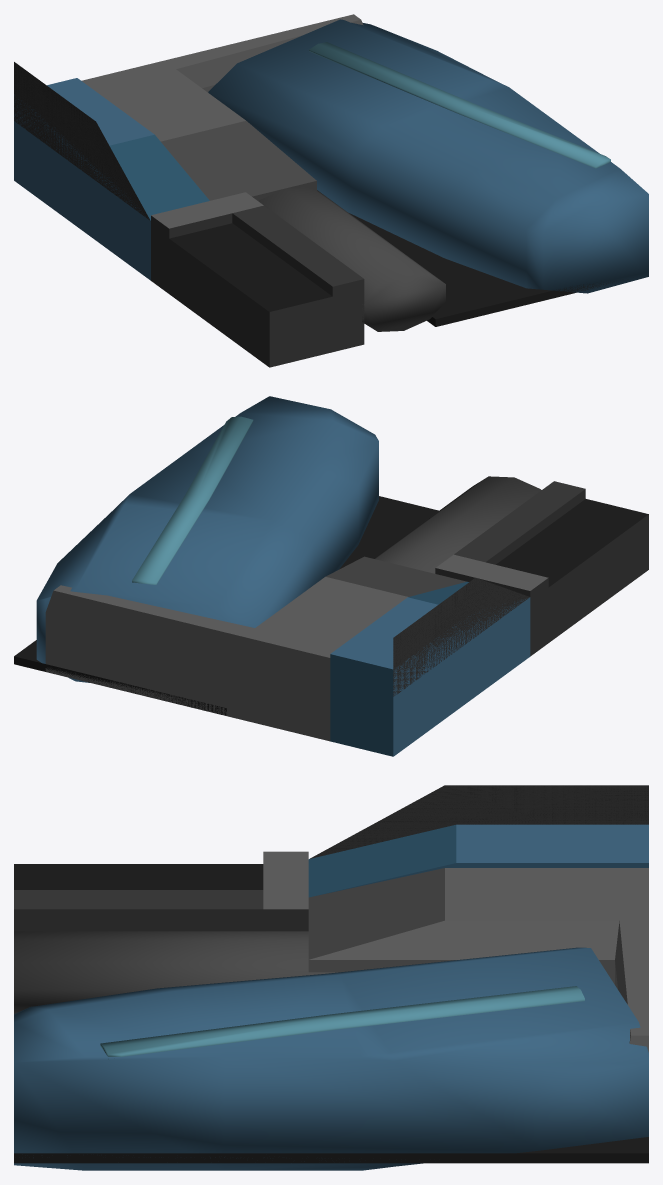
Rendered from newsho-43.glb.
3 views of the same model, one above another, from view 1: azimuth 30°, elevation 25°; view 2: azimuth 150°, elevation 25°; view 3: azimuth 270°, elevation 25° (orthographic). The views are drawn at different scales.
Visible parts, largest first — view 1: newsho-43; view 2: newsho-43; view 3: newsho-43.
Part boxes in pixels (bbox=[...]): newsho-43: bbox=[14, 14, 648, 367]; newsho-43: bbox=[14, 396, 648, 756]; newsho-43: bbox=[14, 785, 648, 1170].
Bounding box in the file's own units: 2 × 0.6307 × 2.33.
